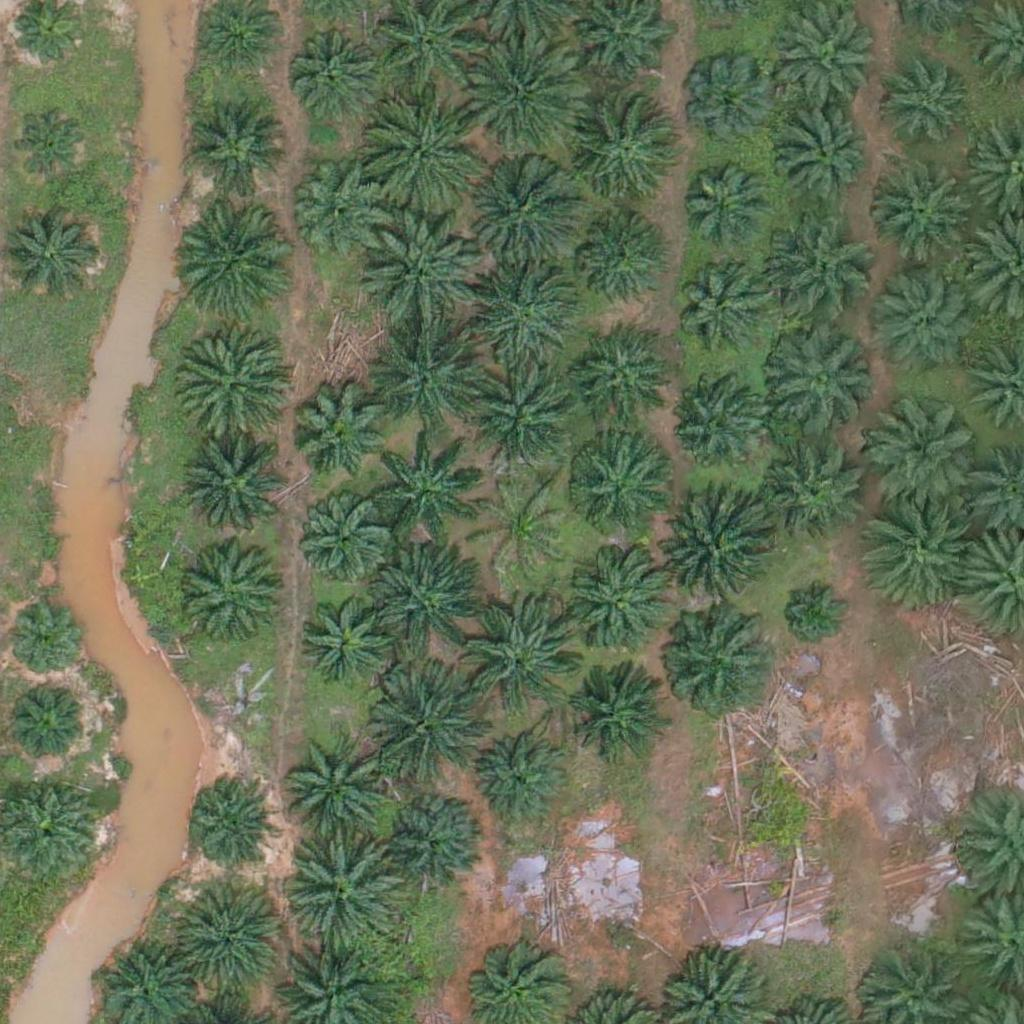Kelapa_Sawit: (371, 669, 484, 783), (172, 882, 285, 996), (178, 200, 291, 314), (862, 265, 975, 378), (862, 384, 975, 497), (854, 498, 967, 611), (759, 325, 872, 438), (658, 494, 771, 607), (372, 543, 485, 656), (362, 217, 475, 330), (174, 324, 287, 437), (471, 38, 584, 151), (370, 98, 483, 211), (863, 158, 975, 272), (566, 544, 678, 658), (467, 255, 579, 369), (468, 368, 580, 482), (181, 433, 293, 547), (475, 152, 587, 266), (766, 208, 878, 321), (660, 610, 772, 723), (464, 599, 576, 712), (369, 430, 481, 543), (373, 315, 485, 428), (285, 723, 397, 836), (289, 837, 401, 950), (569, 103, 681, 216), (768, 444, 868, 545), (665, 376, 765, 477), (474, 472, 574, 573), (381, 790, 481, 891), (291, 490, 391, 591), (295, 586, 395, 687), (184, 542, 284, 643), (878, 59, 978, 160), (678, 51, 778, 152), (186, 97, 286, 198), (567, 663, 667, 763), (571, 334, 671, 434), (564, 435, 664, 535), (470, 736, 570, 836), (288, 383, 388, 483), (774, 106, 874, 206), (291, 160, 391, 260), (287, 19, 387, 119), (8, 100, 96, 189), (676, 263, 764, 351), (573, 217, 661, 305), (679, 160, 767, 248), (185, 776, 272, 864), (4, 678, 91, 766), (7, 605, 82, 681), (778, 573, 853, 648)
